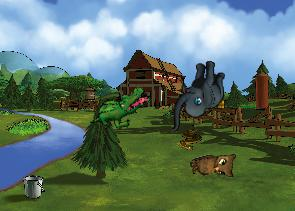crocodile: (88, 74, 153, 143)
elephant: (168, 60, 226, 131)
owl: (188, 148, 240, 187)
